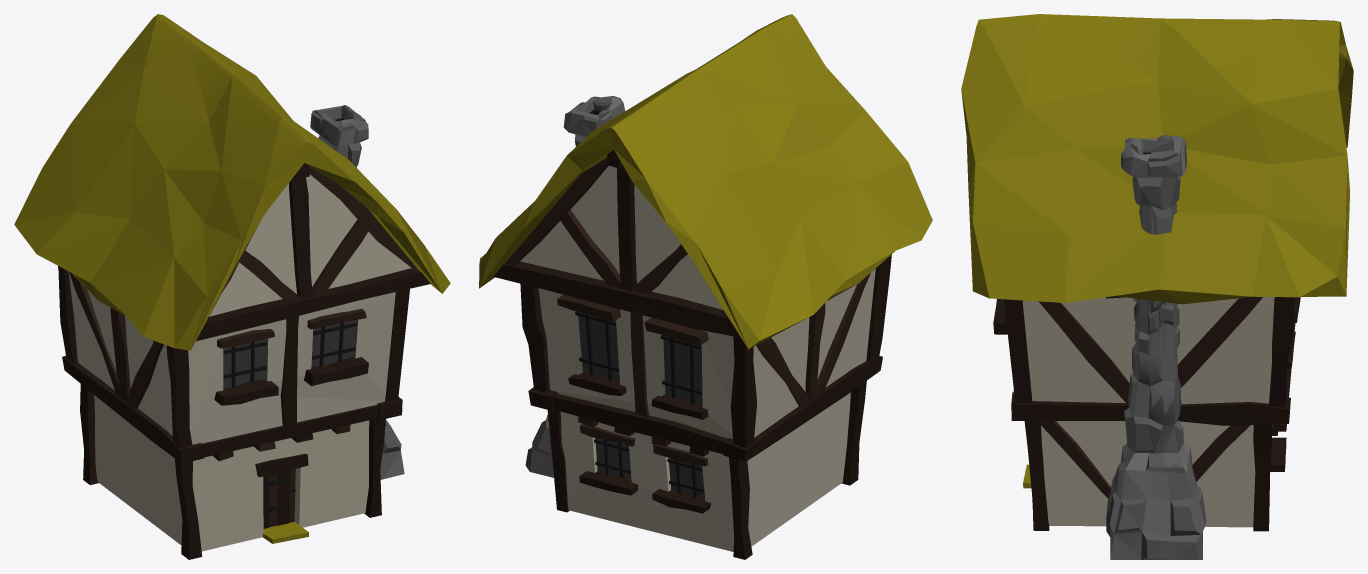
File: Building04.fbx
The picture shows the model from 3 angles, left to right: view 1: azimuth 30°, elevation 25°; view 2: azimuth 150°, elevation 25°; view 3: azimuth 270°, elevation 25°; orthographic projection. The views are drawn at different scales.
Parts seen in each view (by area): view 1: BuildingHouse05; view 2: BuildingHouse05; view 3: BuildingHouse05.
Boxes of the visible parts, left/top/right/bottom form: BuildingHouse05: left=14, top=14, right=450, bottom=559; BuildingHouse05: left=479, top=14, right=932, bottom=559; BuildingHouse05: left=961, top=14, right=1353, bottom=559.
Size of the model in its own units: 2.67 by 3.48 by 2.67.
